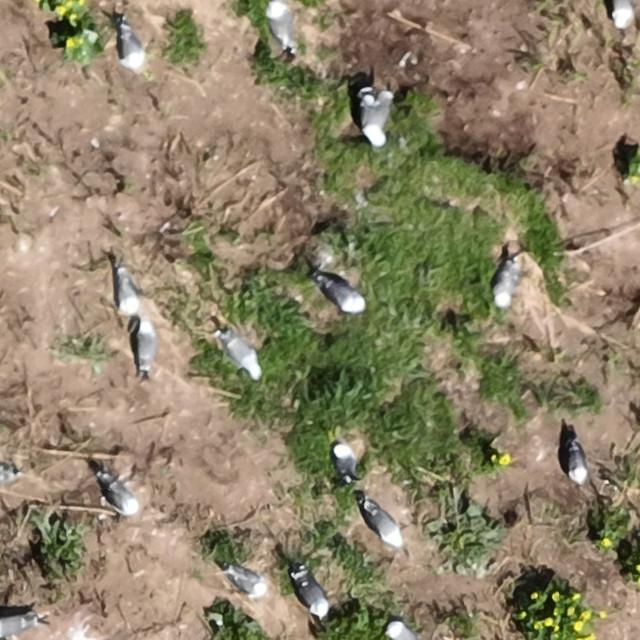umineko: (224, 335, 259, 374), (367, 506, 401, 546), (324, 279, 364, 311), (298, 576, 329, 616), (362, 97, 388, 143), (495, 262, 520, 305), (270, 3, 294, 47), (108, 482, 140, 514), (117, 272, 140, 316), (121, 29, 145, 69), (136, 324, 156, 369), (230, 570, 265, 595), (569, 446, 589, 486), (334, 443, 354, 477), (1, 615, 33, 636), (387, 621, 419, 640), (613, 2, 633, 30), (1, 465, 17, 488)
